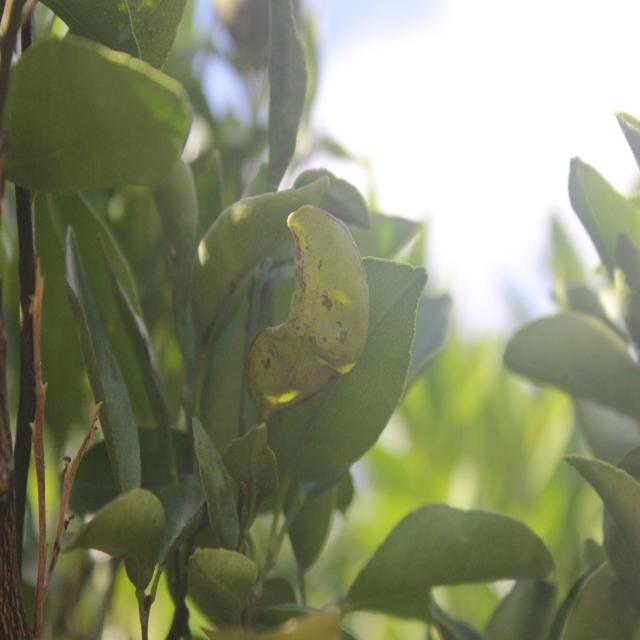melanose: (246, 195, 376, 422)
